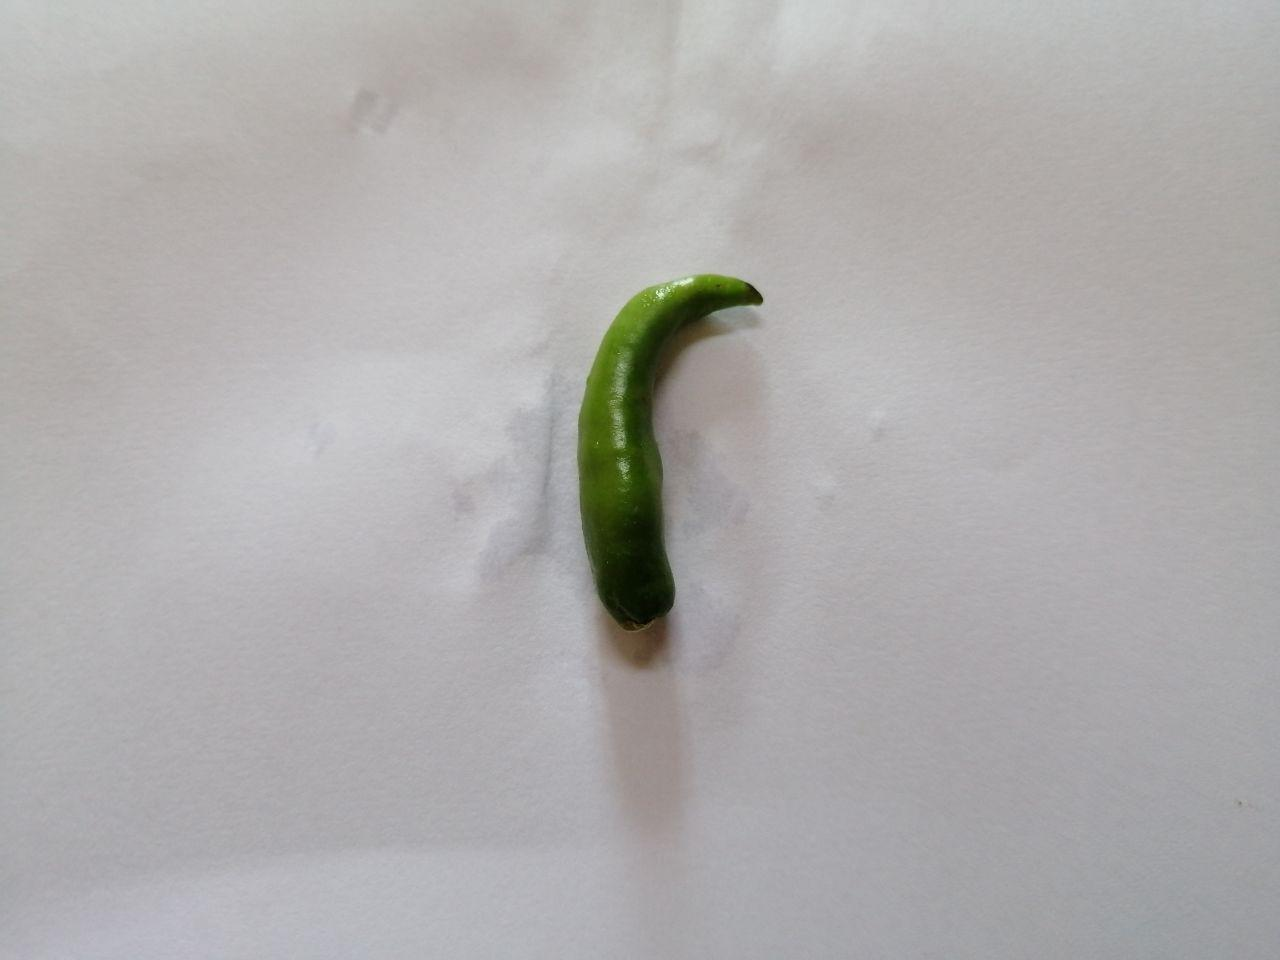lada hijau: (569, 259, 784, 646)
